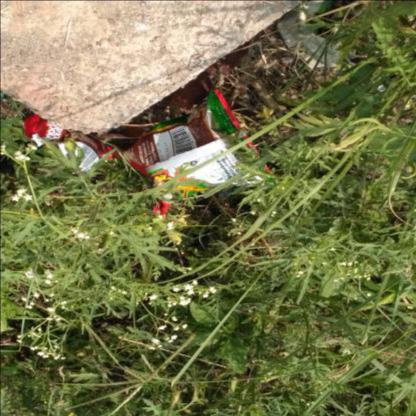Plastic bag - wrapper: (104, 89, 278, 216), (276, 0, 353, 69), (24, 112, 112, 171)
